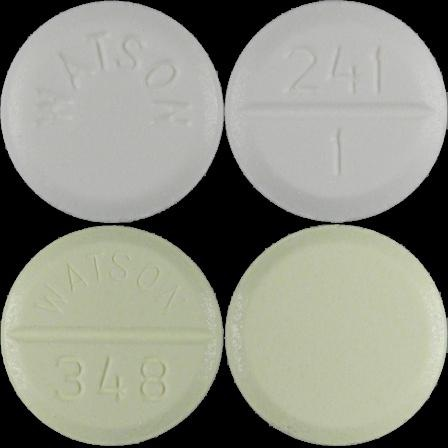55289-487: (0, 0, 224, 224)
